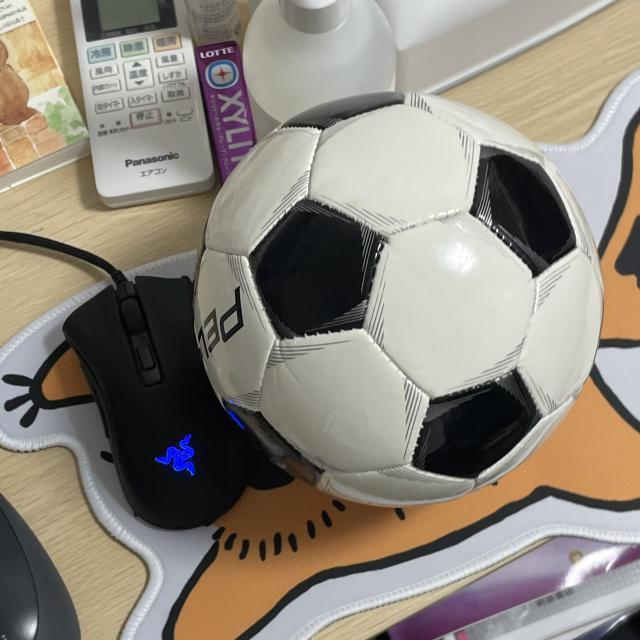ball: (192, 89, 604, 508)
